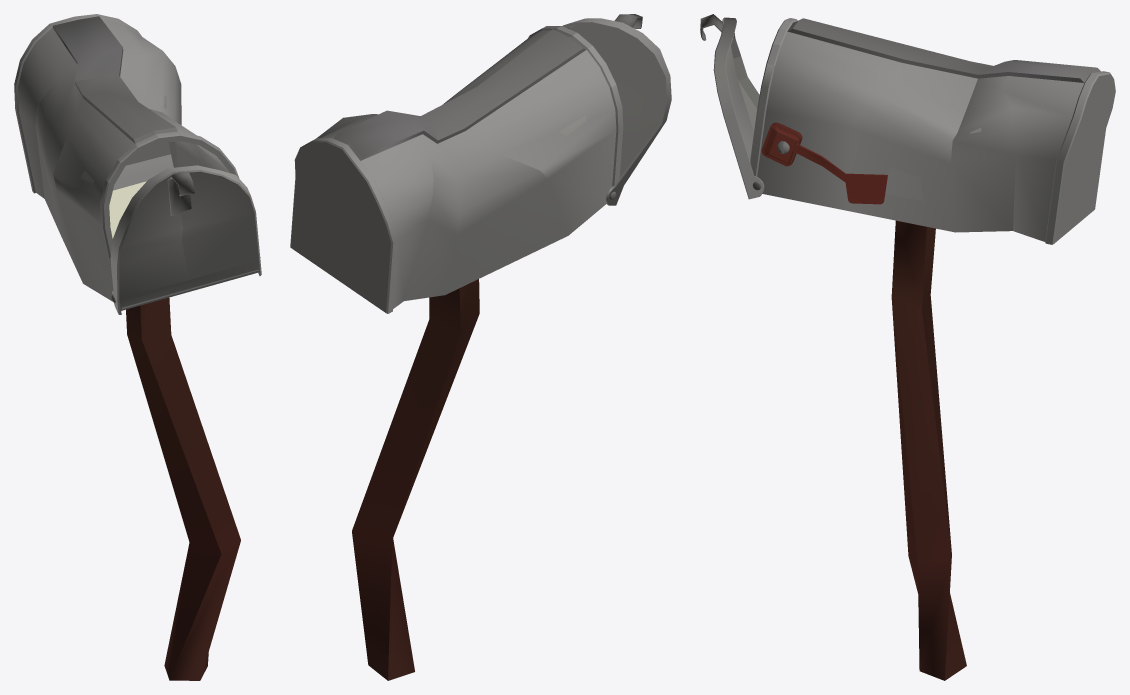
Rendered from SM_props_mailbox_00.fbx.
3 renders of one model, left to right at view 1: azimuth 30°, elevation 25°; view 2: azimuth 150°, elevation 25°; view 3: azimuth 270°, elevation 25°, orthographic. The views are drawn at different scales.
Parts seen in each view (by area): view 1: MailBox, MailBox_Door; view 2: MailBox, MailBox_Door; view 3: MailBox, MailBox_Door.
Part boxes in pixels (x1,y1,x2,y2): MailBox: [14, 14, 260, 680]; MailBox_Door: [110, 165, 261, 314]; MailBox: [290, 26, 623, 680]; MailBox_Door: [562, 14, 671, 205]; MailBox: [750, 18, 1115, 680]; MailBox_Door: [700, 14, 764, 199].
Size of the model in its own units: 38.97 by 103 by 64.5.
